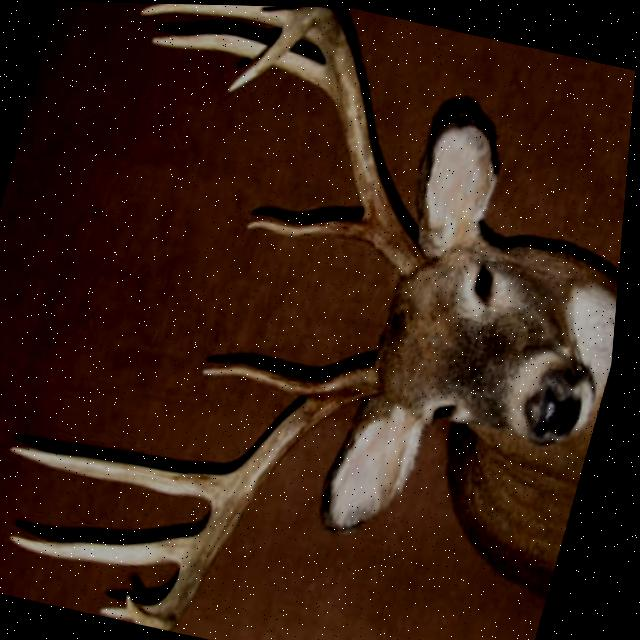E1: (257, 5, 298, 25)
L-F: (134, 357, 389, 631)
L-G1: (206, 359, 321, 396)
L-G2: (15, 444, 236, 504)
L-G3: (18, 534, 199, 566)
R-F: (227, 5, 429, 278)
R-G1: (248, 217, 372, 239)
